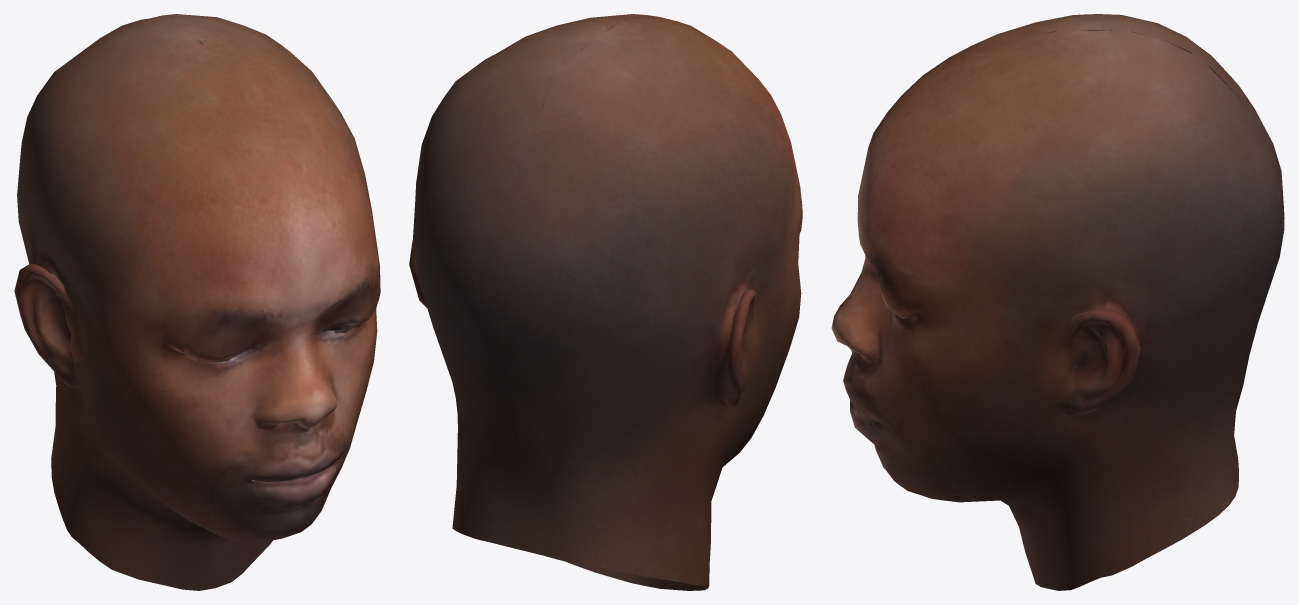
File: blink_000004.obj
The picture shows the model from 3 angles, left to right: view 1: azimuth 30°, elevation 25°; view 2: azimuth 150°, elevation 25°; view 3: azimuth 270°, elevation 25°; orthographic projection. The views are drawn at different scales.
Parts seen in each view (by area): view 1: model.002_model.004; view 2: model.002_model.004; view 3: model.002_model.004.
Part boxes in pixels (bbox=[...]): model.002_model.004: bbox=[14, 14, 380, 590]; model.002_model.004: bbox=[409, 14, 802, 590]; model.002_model.004: bbox=[831, 14, 1284, 590].
Size of the model in its own units: 0.4496 by 0.737 by 0.5523.
Materials: 1 (1 with a texture image).
